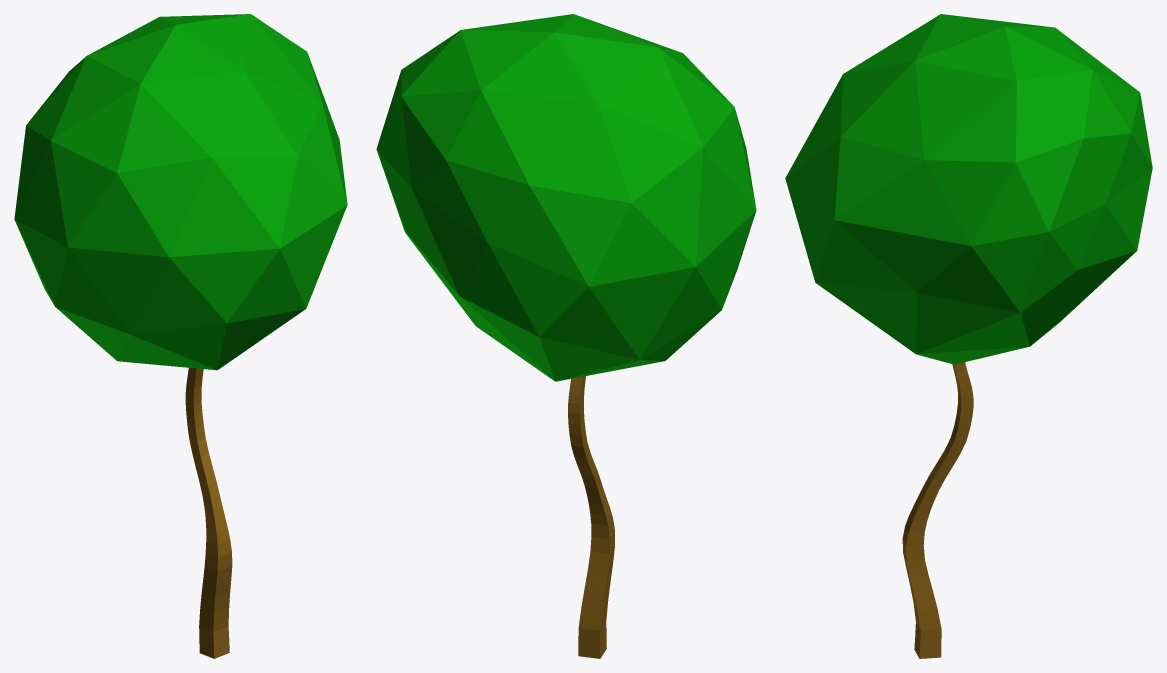
The model's file is Tree_01.fbx.
3 views of the same model, side by side, from view 1: azimuth 30°, elevation 25°; view 2: azimuth 150°, elevation 25°; view 3: azimuth 270°, elevation 25° (orthographic). The views are drawn at different scales.
Visible parts, largest first — view 1: Tree_01; view 2: Tree_01; view 3: Tree_01.
Boxes of the visible parts, x1,y1,x2,y2 form: Tree_01: [14, 14, 347, 658]; Tree_01: [376, 14, 756, 658]; Tree_01: [785, 14, 1152, 658].
Bounding box in the file's own units: 143 × 278 × 148.
